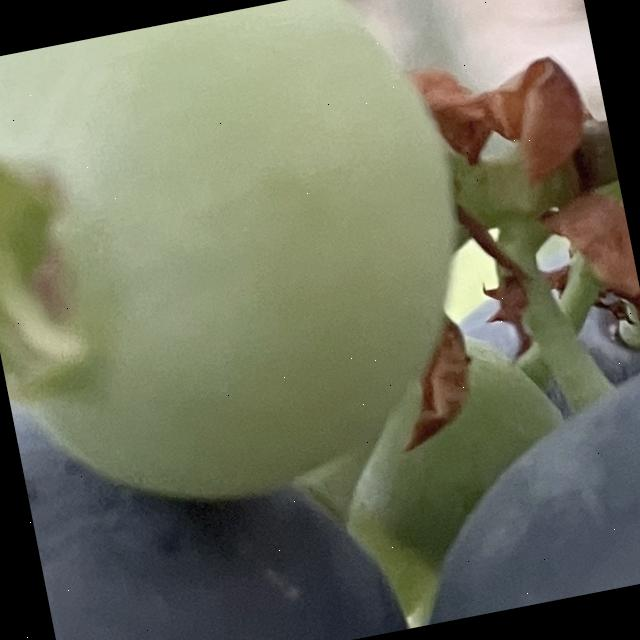Blueberries: (0, 0, 511, 539), (8, 327, 419, 640)
